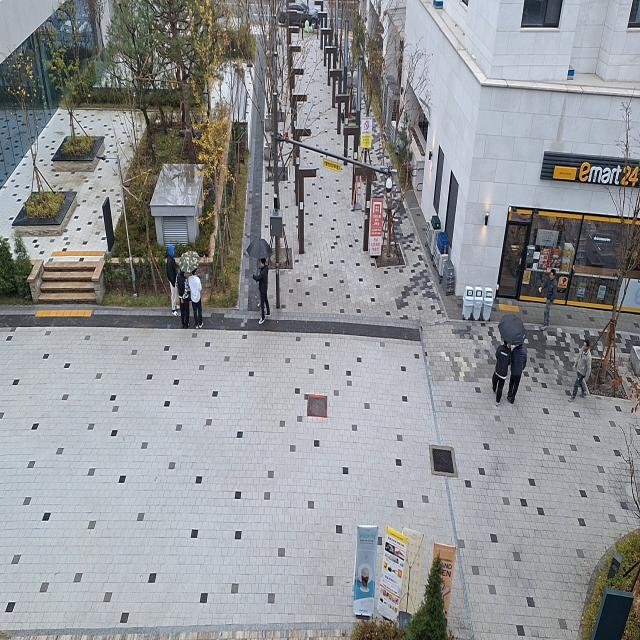Car: (268, 0, 321, 39)
